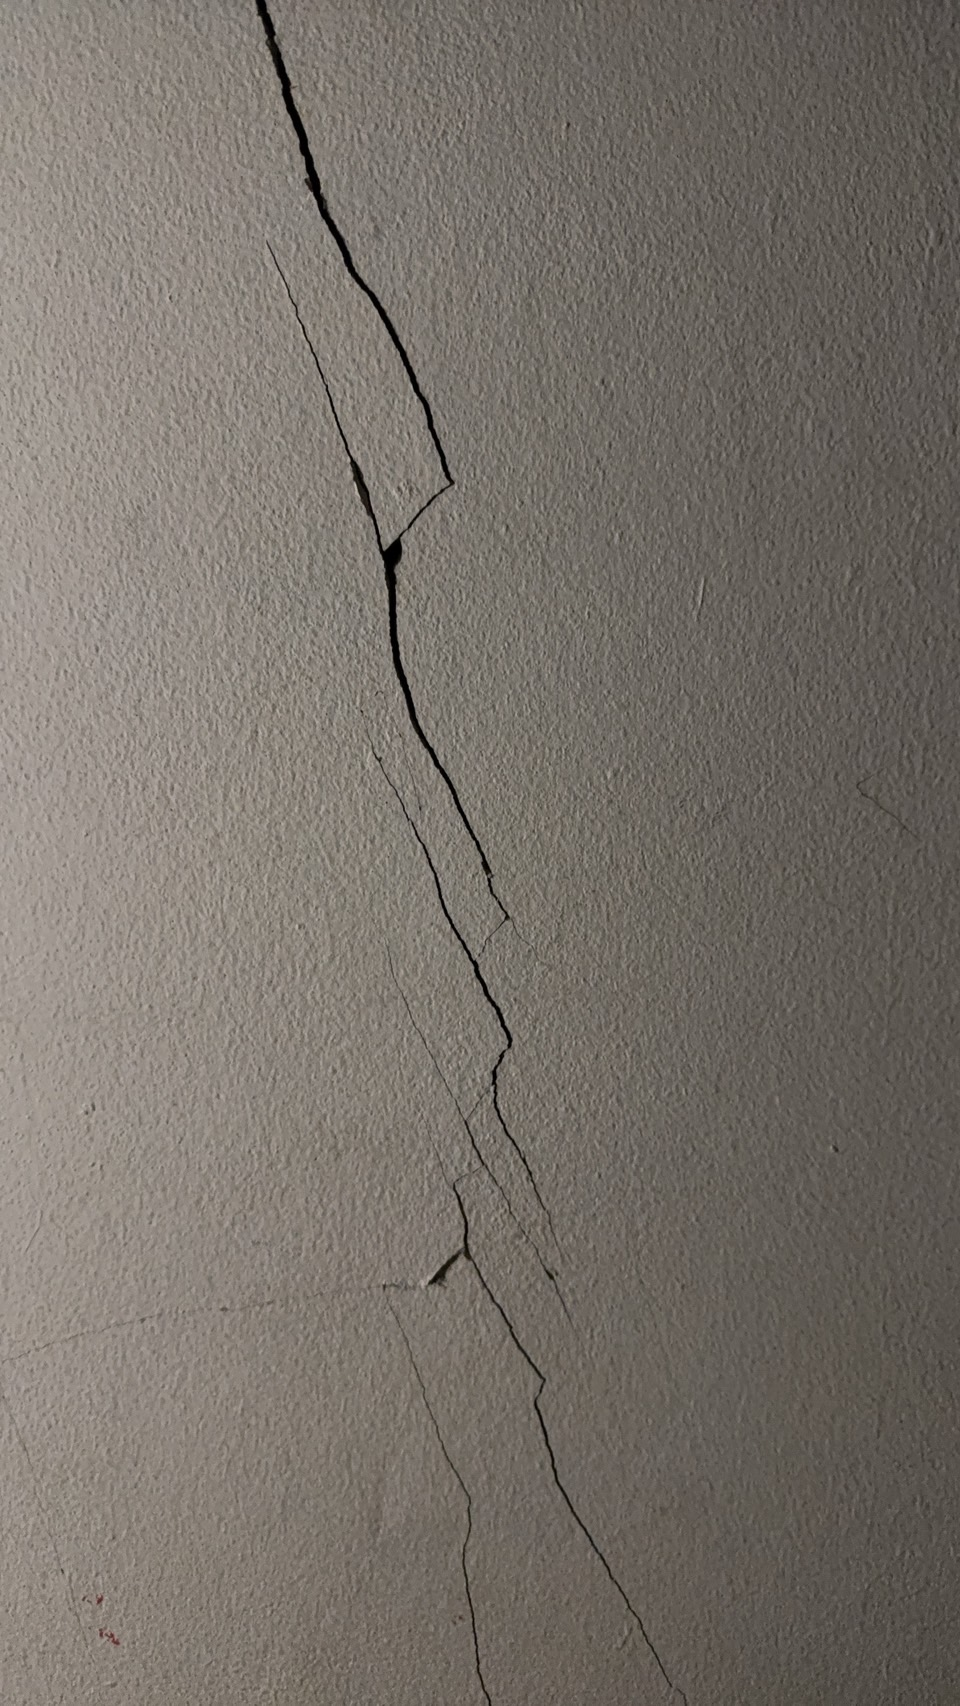Medium: (217, 71, 607, 1283)
